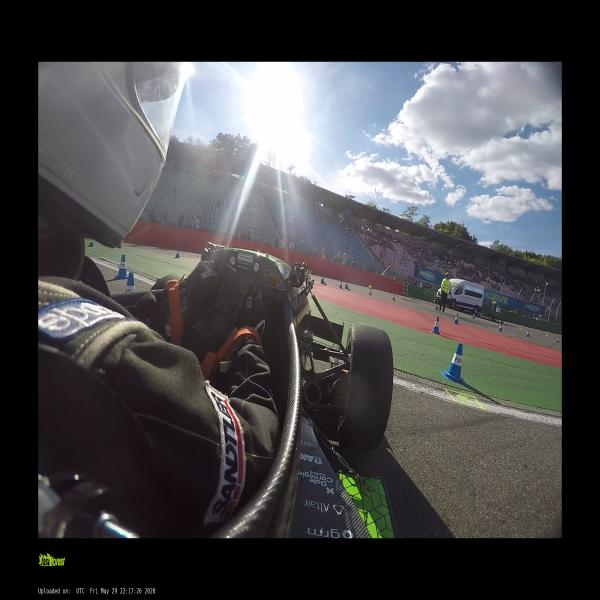blue_cone: (444, 342, 466, 385), (115, 255, 129, 280), (125, 272, 135, 292), (432, 317, 440, 335), (88, 236, 94, 248), (453, 314, 459, 325), (175, 248, 180, 258), (320, 278, 327, 285), (344, 284, 351, 290), (368, 288, 372, 296), (339, 280, 342, 289), (499, 324, 502, 332), (526, 331, 530, 337), (435, 304, 439, 310), (392, 294, 395, 301), (472, 313, 475, 319), (556, 338, 559, 342), (504, 321, 506, 327)
yellow_cone: (545, 332, 549, 337), (521, 325, 523, 329), (369, 285, 371, 288)
